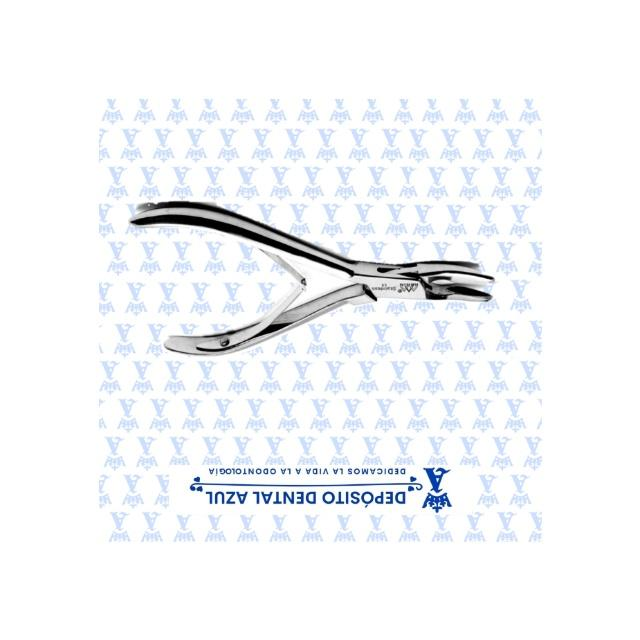gubia: (129, 201, 496, 361)
